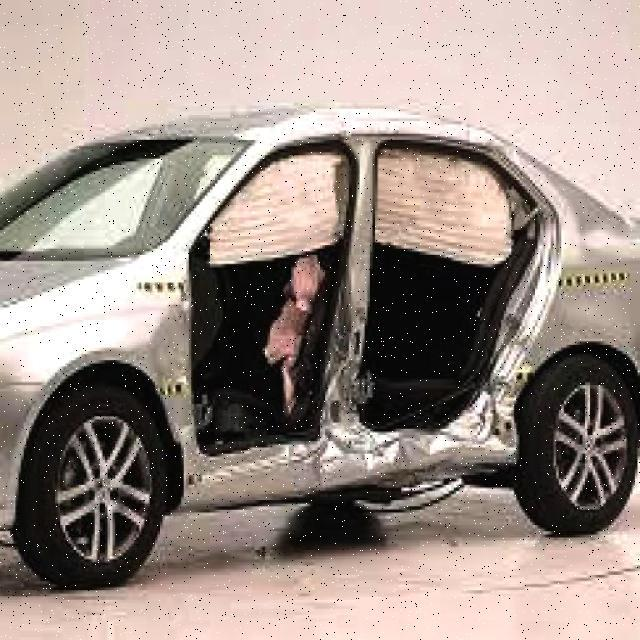car damage: (164, 123, 569, 494)
